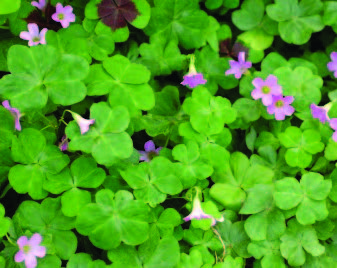oxalis: (11, 25, 331, 268)
